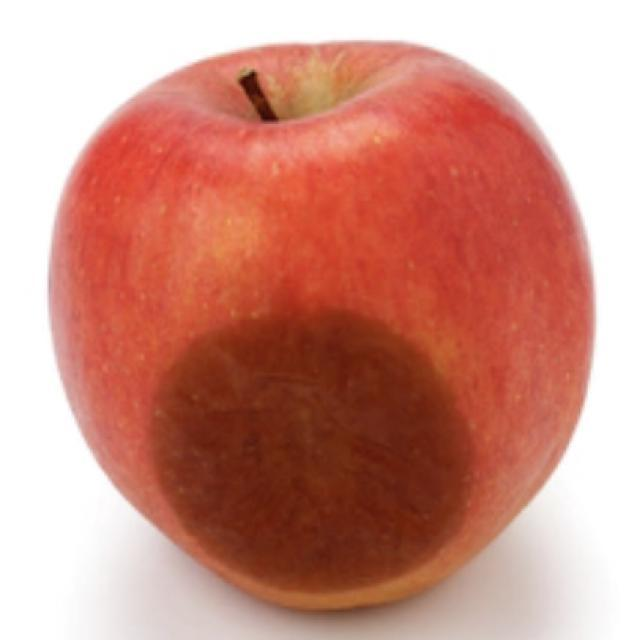Rotten: (70, 46, 600, 640)
